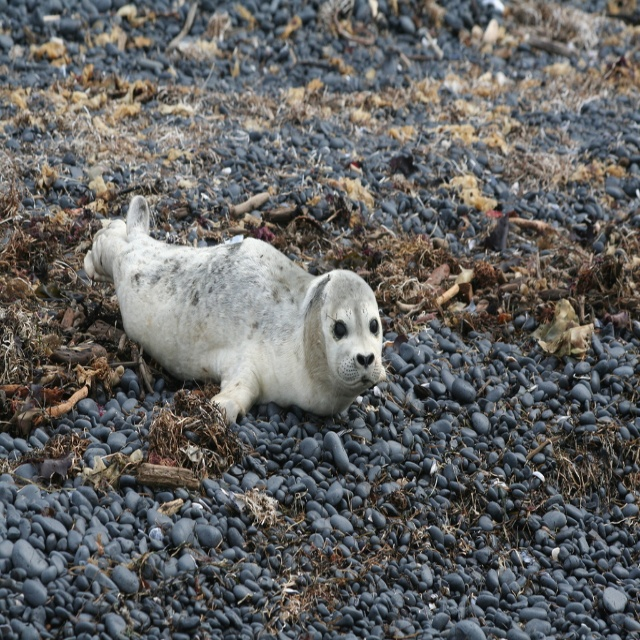Harbor seal: (80, 201, 386, 430)
